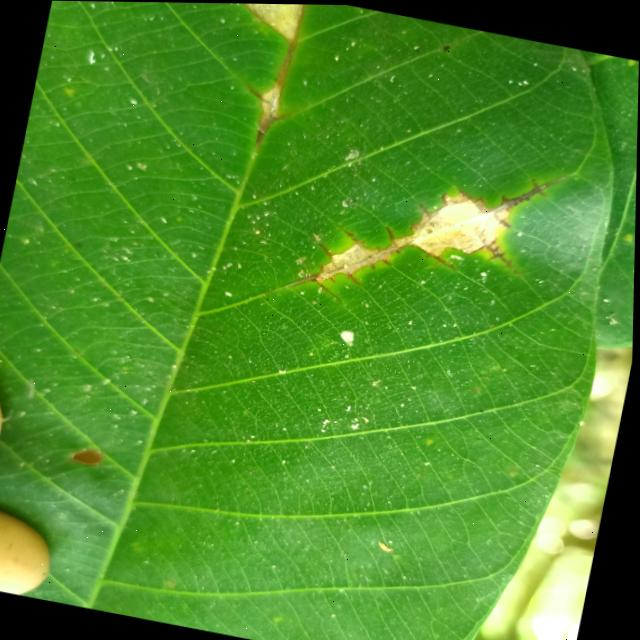Corynespora: (284, 128, 566, 340), (233, 32, 310, 153)
Leaf-Blight: (203, 2, 304, 41)
